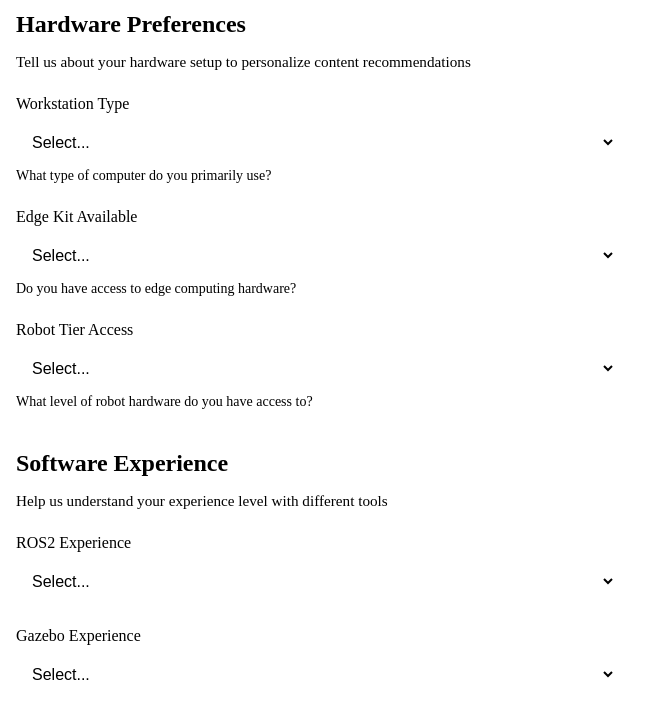
it: PersonalizationForm › shows "Other" input field when "Other" is selected
Select "Other" in the dropdown labelled "Workstation Type". click: [316, 143]
box: x1=16 y1=121 x2=616 y2=164
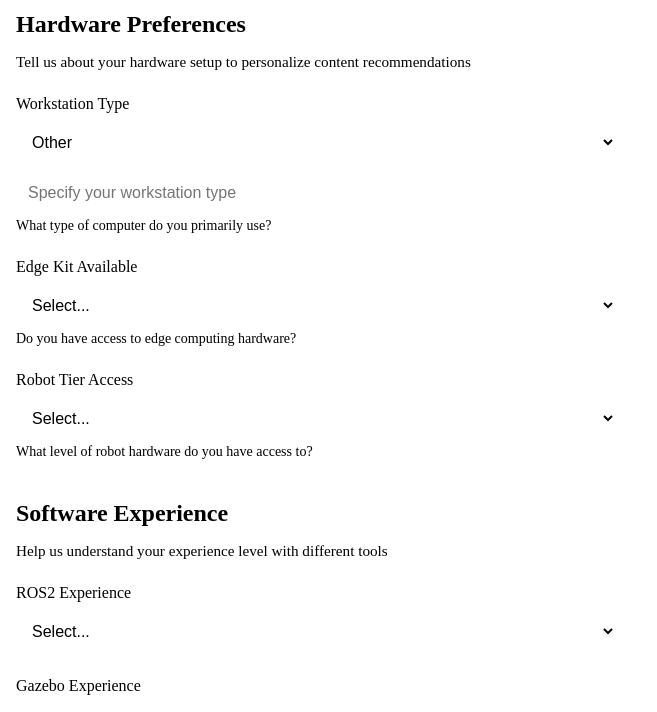
Now the field with placeholder "Specify your workstation type" is shown, box x1=16 y1=172 x2=640 y2=214
